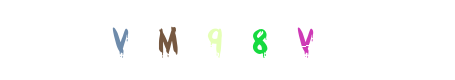8: (219, 0, 299, 80)
9: (187, 0, 267, 80)
M: (128, 0, 208, 80)
V: (106, 0, 186, 80), (265, 0, 345, 80)
